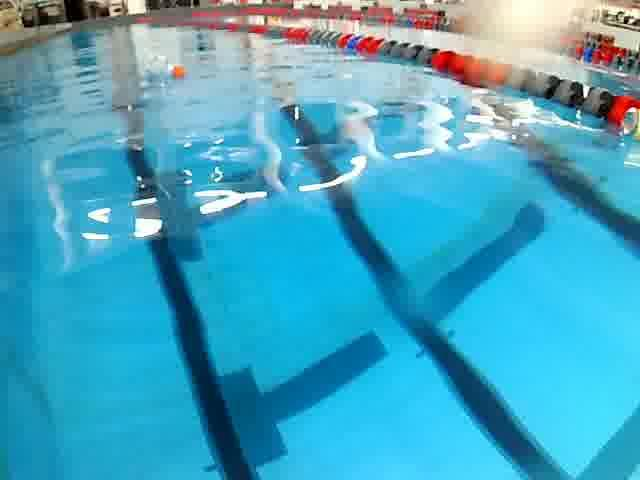Bottle: (125, 28, 190, 99)
Can: (622, 96, 636, 147)
